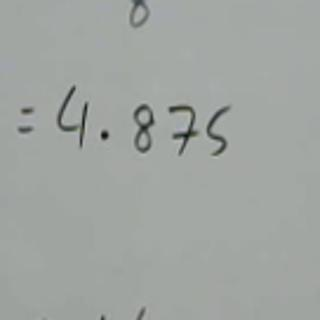.: (96, 126, 114, 142)
4: (55, 81, 91, 153)
5: (203, 102, 235, 160)
7: (165, 102, 199, 157)
8: (131, 101, 157, 154)
